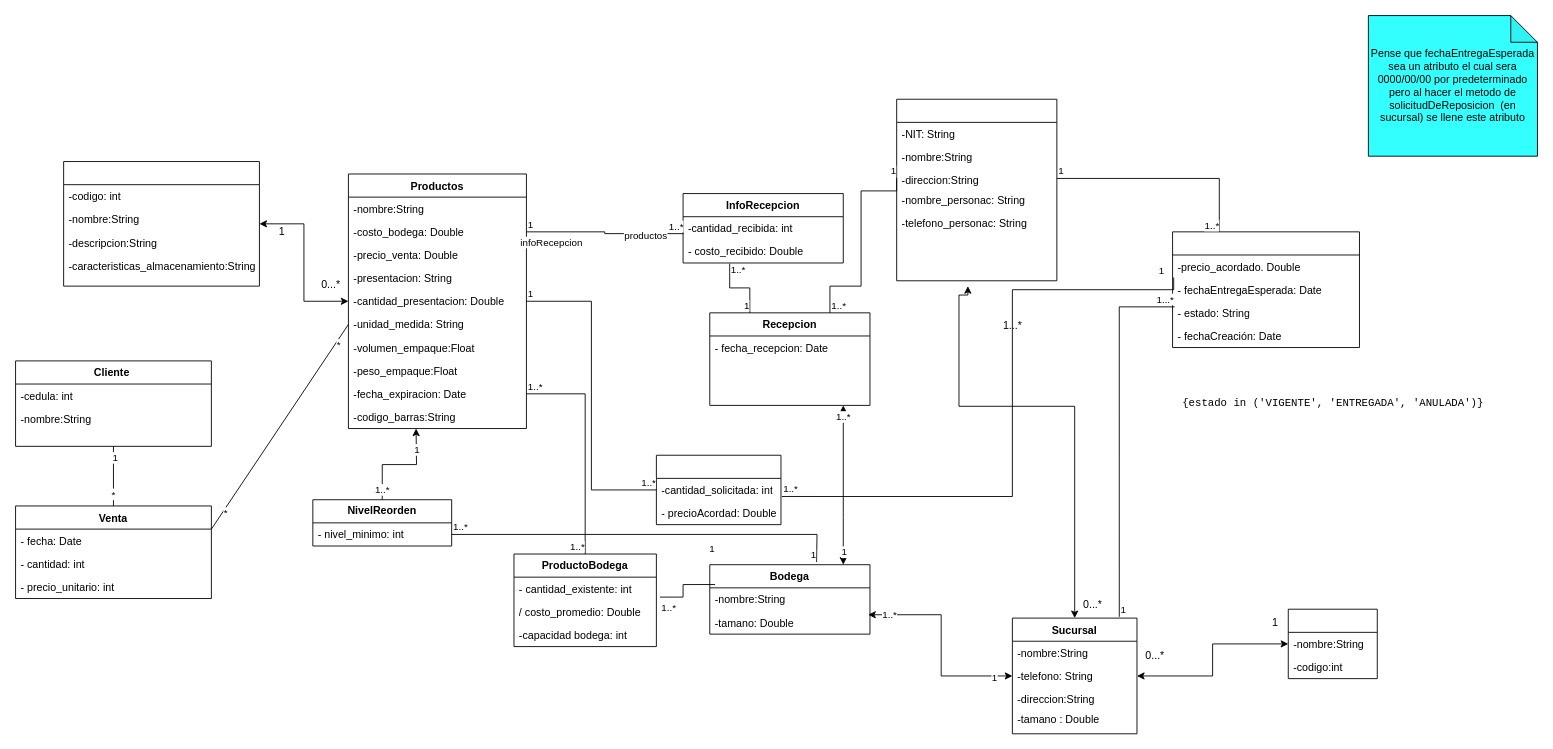
Image size: 1553x749. Some labels were removed from this diagram. The shapes that lost their labels are listed below. From the top down, each one's box as (x1, y1, x2, y2) in pixels, then its label:
(896, 98, 1057, 281): Proveedor
(63, 161, 259, 286): Categoria
(1172, 231, 1359, 348): OrdenCompra
(655, 454, 781, 525): ProductoOrden
(1287, 608, 1377, 679): Ciudad
